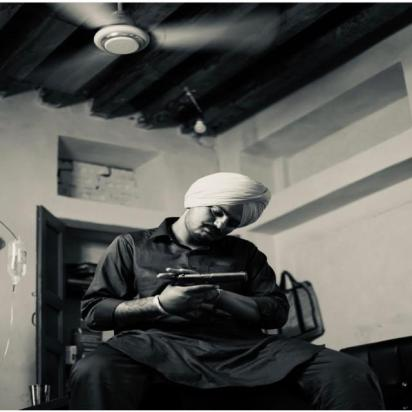Gun: (169, 270, 253, 314)
